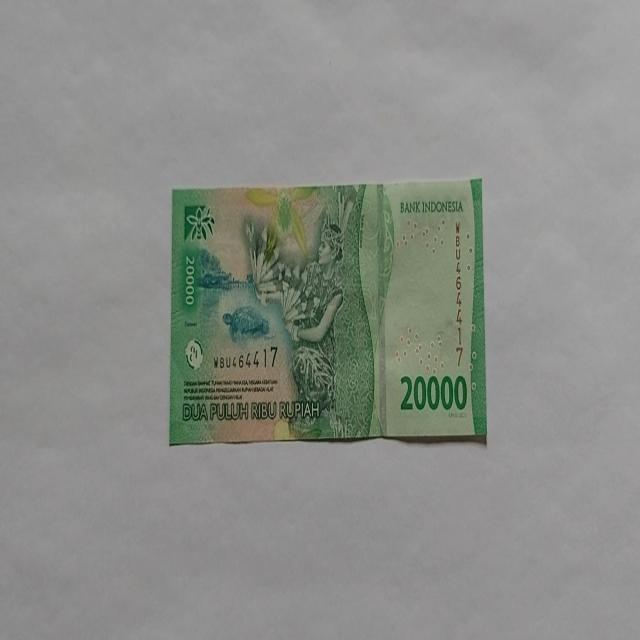dua puluh ribu rupiah: (169, 178, 487, 446)
